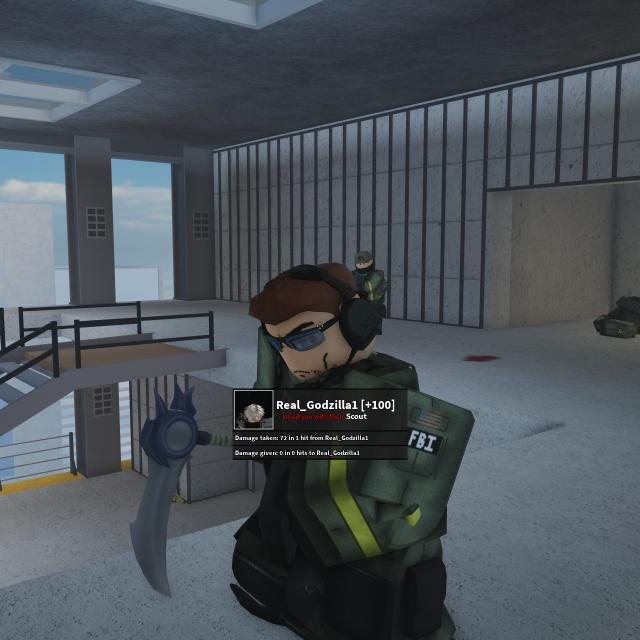Head: (247, 264, 375, 379), (354, 249, 375, 273)
Player: (233, 263, 475, 638), (340, 250, 388, 334)
